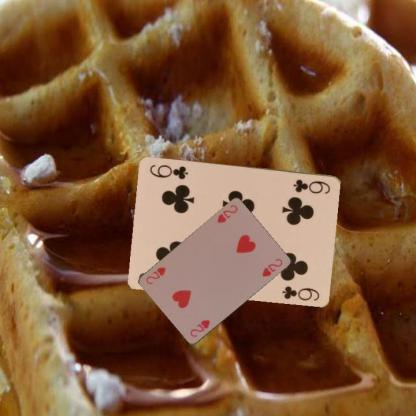2h: (187, 317, 212, 339), (214, 202, 239, 224)
6c: (290, 177, 332, 196)
